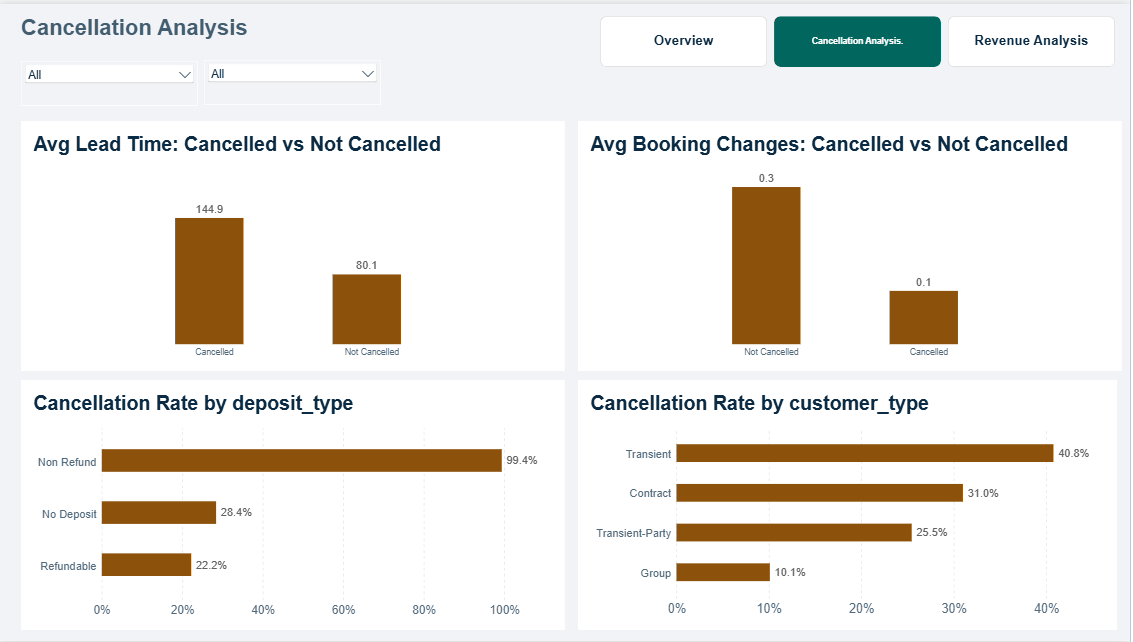

Layout of this report page (visuals, bound fields, positions):
{"tool":"powerbi","page":{"name":"Cancellation Analysis.","canvas":[1920,1080],"ordinal":1},"visuals":[{"type":"clusteredBarChart","fields":{"Category":["vw_bookings_detail.deposit_type"],"Y":["_Measures.Cancellation Rate"]},"box":[39.6,637.4,922.4,423.6],"z":0},{"type":"barChart","fields":{"Category":["vw_bookings_detail.customer_type"],"Y":["_Measures.Cancellation Rate"]},"box":[983.8,637.4,914.5,423.6],"z":1000},{"type":"textbox","box":[39,18.7,493.6,71.2],"z":2000},{"type":"slicer","fields":{"Values":["DateTable.Year"]},"box":[39.1,96.7,299.9,75.8],"z":3000},{"type":"slicer","fields":{"Values":["vw_bookings_detail.hotel"]},"box":[349.8,94.7,299.9,75.8],"z":4000},{"type":"pageNavigator","box":[1018.6,18.5,878.7,90.5],"z":5000},{"type":"clusteredColumnChart","title":"Avg Lead Time: Cancelled vs Not Cancelled","fields":{"Category":["vw_bookings_detail.Booking Status"],"Y":["_Measures.Average Lead Time"]},"box":[39.6,197.9,922.4,423.6],"z":6000},{"type":"clusteredColumnChart","title":"Avg Booking Changes: Cancelled vs Not Cancelled","fields":{"Category":["vw_bookings_detail.Booking Status"],"Y":["_Measures.Average Booking Changes"]},"box":[983.8,197.9,922.4,423.6],"z":7000}]}

Visuals, with their boxes in screenshot pixels (x1, y1, x2, y2), scaled from the page's 1920x1080 canvas onto the 1133x642 screenshot:
clusteredBarChart - vw_bookings_detail.deposit_type x _Measures.Cancellation Rate: box(23, 379, 568, 631)
barChart - vw_bookings_detail.customer_type x _Measures.Cancellation Rate: box(581, 379, 1120, 631)
textbox: box(23, 11, 314, 53)
slicer - DateTable.Year: box(23, 57, 200, 103)
slicer - vw_bookings_detail.hotel: box(206, 56, 383, 101)
pageNavigator: box(601, 11, 1120, 65)
"Avg Lead Time: Cancelled vs Not Cancelled" clusteredColumnChart: box(23, 118, 568, 369)
"Avg Booking Changes: Cancelled vs Not Cancelled" clusteredColumnChart: box(581, 118, 1125, 369)
